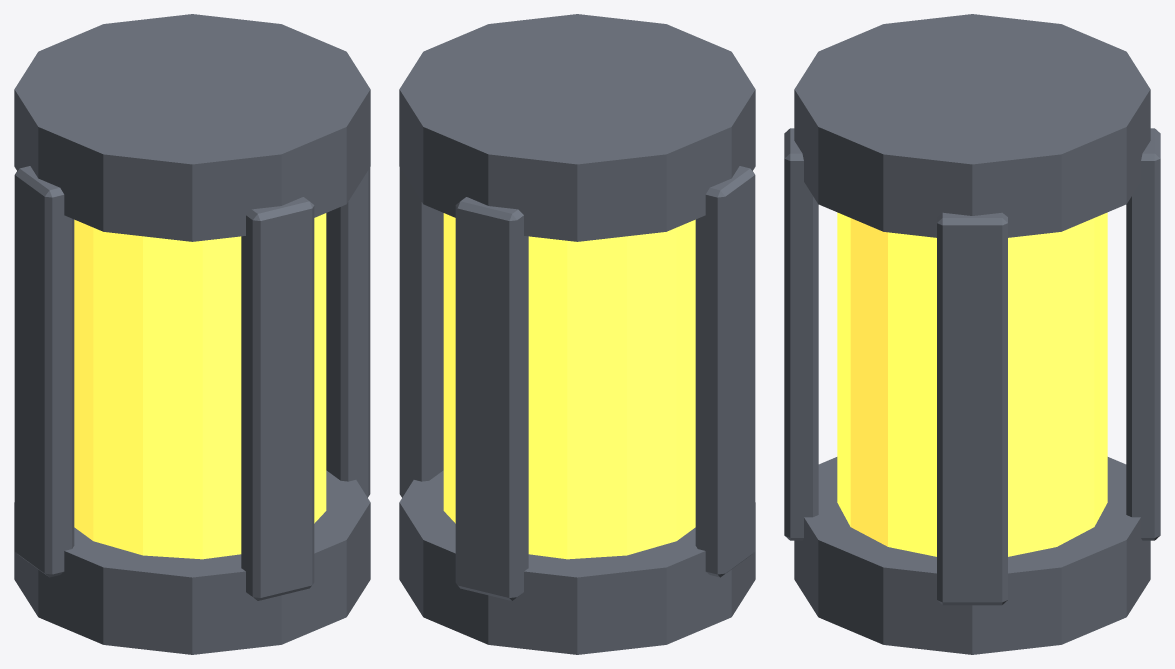
The model's file is item_nucleo_termico.glb.
The picture shows the model from 3 angles, left to right: view 1: azimuth 30°, elevation 25°; view 2: azimuth 150°, elevation 25°; view 3: azimuth 270°, elevation 25°; orthographic projection.
Visible parts, largest first — view 1: Core_CapTop, Core_EnergyCell, Core_CapBot, Core_Fin_4.7, Core_Fin_3.1, Core_Fin_0.0; view 2: Core_CapTop, Core_EnergyCell, Core_CapBot, Core_Fin_1.6, Core_Fin_3.1, Core_Fin_0.0; view 3: Core_CapTop, Core_EnergyCell, Core_CapBot, Core_Fin_0.0, Core_Fin_1.6, Core_Fin_4.7.
Boxes of the visible parts, x1,y1,x2,y2 form: Core_CapTop: [14, 14, 370, 241]; Core_EnergyCell: [74, 213, 326, 559]; Core_CapBot: [14, 470, 370, 654]; Core_Fin_4.7: [241, 197, 314, 600]; Core_Fin_3.1: [14, 166, 74, 577]; Core_Fin_0.0: [326, 167, 370, 497]; Core_CapTop: [399, 14, 755, 241]; Core_EnergyCell: [443, 213, 695, 559]; Core_CapBot: [399, 470, 755, 654]; Core_Fin_1.6: [455, 197, 528, 600]; Core_Fin_3.1: [695, 166, 755, 577]; Core_Fin_0.0: [399, 167, 443, 497]; Core_CapTop: [794, 14, 1150, 237]; Core_EnergyCell: [837, 212, 1107, 556]; Core_CapBot: [794, 457, 1150, 654]; Core_Fin_0.0: [937, 212, 1007, 605]; Core_Fin_1.6: [1126, 128, 1160, 540]; Core_Fin_4.7: [784, 128, 818, 540].
Bounding box in the file's own units: 0.264 × 0.38 × 0.264.
